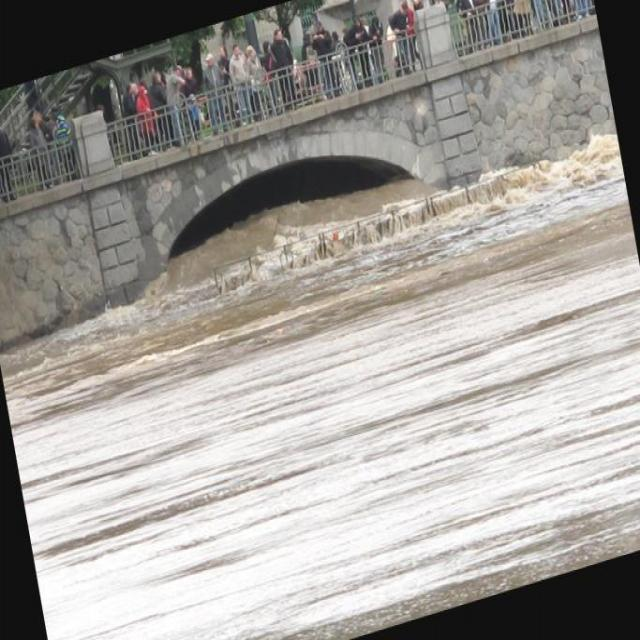flood: (0, 110, 639, 639)
